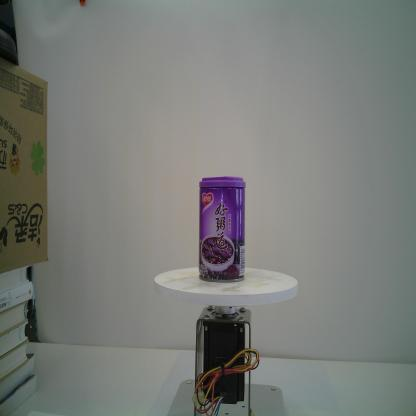Canned Food: (198, 176, 246, 283)
